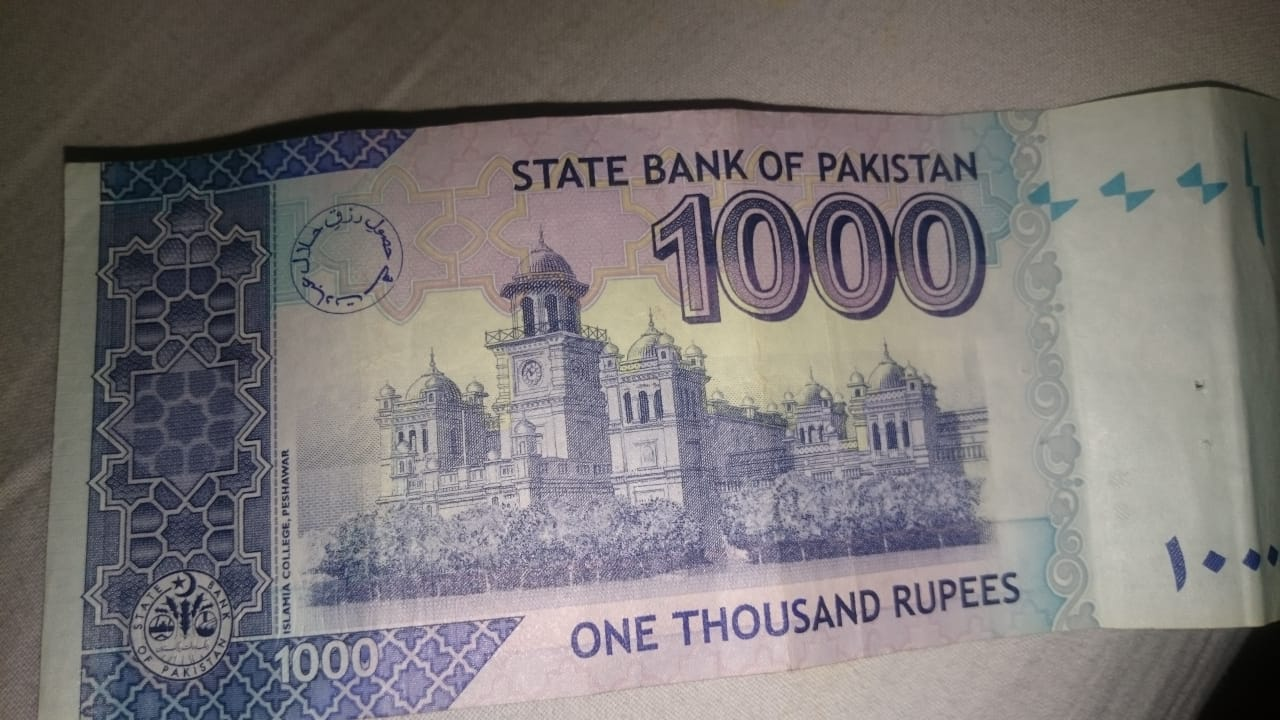1000 rupee: (43, 92, 1280, 687)
